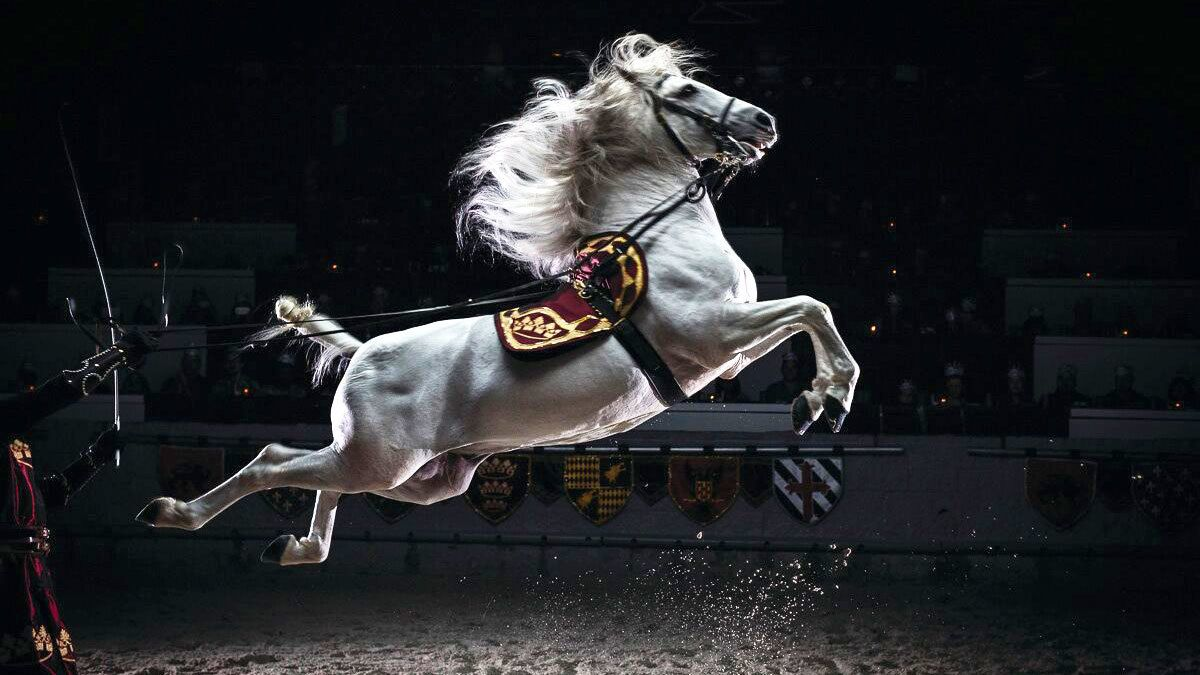Horse: (213, 64, 866, 561)
